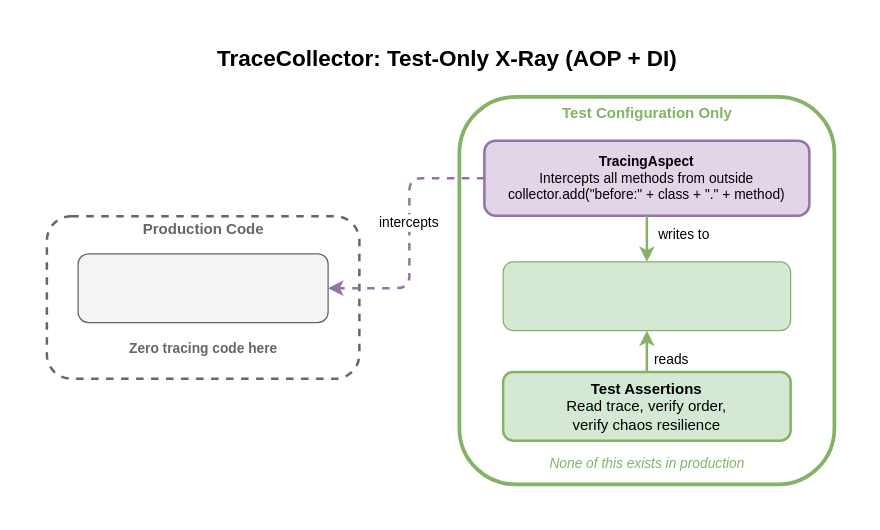
Image size: 880x530. Some labels were removed from this diagram. Here are the shapes that lost their labels. From the top down, the box of each, then its label:
(77, 252, 328, 322): OrderService KitchenService FallbackKitchenService ...
(502, 261, 791, 331): TraceCollector add(step: String) getTrace(): List<String>
